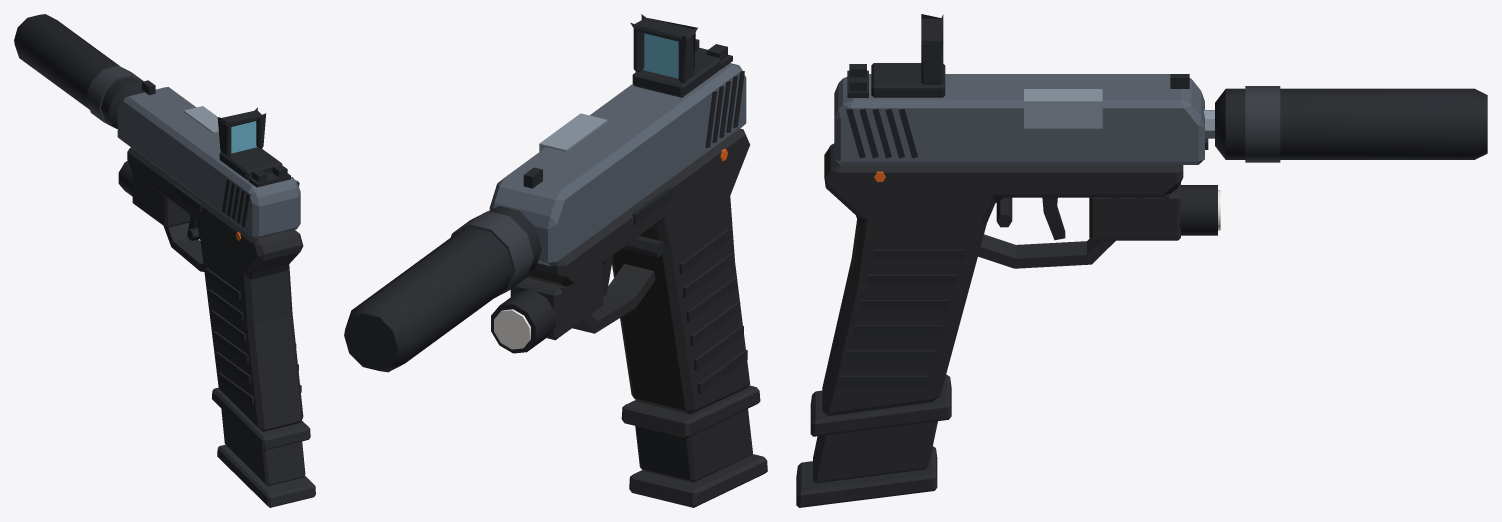
The model's file is pistol.glb.
3 renders of one model, left to right at view 1: azimuth 30°, elevation 25°; view 2: azimuth 150°, elevation 25°; view 3: azimuth 270°, elevation 25°, orthographic. The views are drawn at different scales.
Visible parts, largest first — view 1: Body, Att_Suppressor, Att_ExtMag, Att_Scope, Att_Flashlight, Mag; view 2: Body, Att_Suppressor, Att_ExtMag, Att_Flashlight, Att_Scope, Mag; view 3: Body, Att_Suppressor, Att_ExtMag, Att_Flashlight, Att_Scope, Mag.
Boxes of the visible parts, x1,y1,x2,y2 form: Body: [117, 80, 303, 431]; Att_Suppressor: [14, 14, 144, 128]; Att_ExtMag: [217, 408, 315, 507]; Att_Scope: [217, 107, 282, 179]; Att_Flashlight: [118, 161, 190, 227]; Mag: [212, 387, 310, 450]; Body: [489, 39, 750, 414]; Att_Suppressor: [344, 206, 541, 372]; Att_ExtMag: [629, 409, 767, 507]; Att_Flashlight: [491, 262, 603, 353]; Att_Scope: [630, 14, 720, 97]; Mag: [621, 385, 760, 438]; Body: [822, 64, 1214, 415]; Att_Suppressor: [1215, 86, 1487, 162]; Att_ExtMag: [796, 421, 937, 507]; Att_Flashlight: [1089, 183, 1220, 240]; Att_Scope: [871, 14, 945, 97]; Mag: [810, 374, 951, 436].
Size of the model in its own units: 0.0356 by 0.236 by 0.3168.
